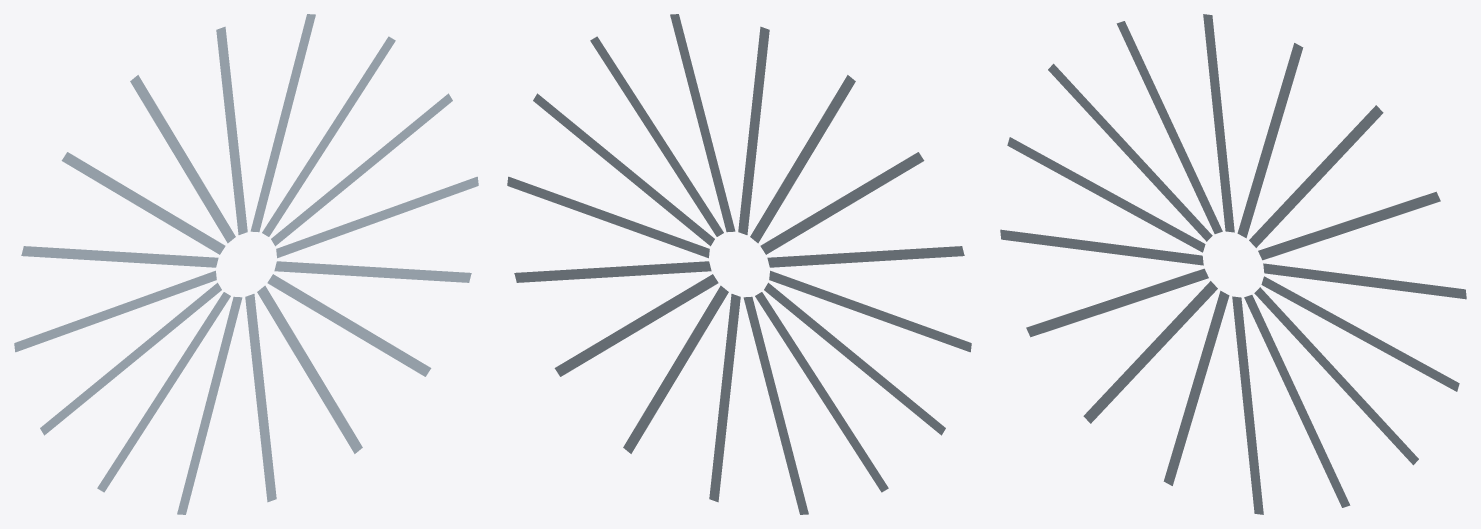
File: Eula_LightfallSwordDetonation_PhysicalRadialLight.fbx
The picture shows the model from 3 angles, left to right: view 1: azimuth 30°, elevation 25°; view 2: azimuth 150°, elevation 25°; view 3: azimuth 330°, elevation 25°; orthographic projection.
Visible parts, largest first — view 1: PART_PalePhysicalRadialLight_11, PART_PalePhysicalRadialLight_3, PART_PalePhysicalRadialLight_12, PART_PalePhysicalRadialLight_4, PART_PalePhysicalRadialLight_0, PART_PalePhysicalRadialLight_8, PART_PalePhysicalRadialLight_15, PART_PalePhysicalRadialLight_7, PART_PalePhysicalRadialLight_10, PART_PalePhysicalRadialLight_2, PART_PalePhysicalRadialLight_1, PART_PalePhysicalRadialLight_9 (+4 smaller); view 2: PART_PalePhysicalRadialLight_11, PART_PalePhysicalRadialLight_3, PART_PalePhysicalRadialLight_12, PART_PalePhysicalRadialLight_4, PART_PalePhysicalRadialLight_0, PART_PalePhysicalRadialLight_8, PART_PalePhysicalRadialLight_15, PART_PalePhysicalRadialLight_7, PART_PalePhysicalRadialLight_10, PART_PalePhysicalRadialLight_2, PART_PalePhysicalRadialLight_1, PART_PalePhysicalRadialLight_9 (+4 smaller); view 3: PART_PalePhysicalRadialLight_12, PART_PalePhysicalRadialLight_4, PART_PalePhysicalRadialLight_0, PART_PalePhysicalRadialLight_8, PART_PalePhysicalRadialLight_13, PART_PalePhysicalRadialLight_5, PART_PalePhysicalRadialLight_15, PART_PalePhysicalRadialLight_7, PART_PalePhysicalRadialLight_11, PART_PalePhysicalRadialLight_3, PART_PalePhysicalRadialLight_1, PART_PalePhysicalRadialLight_9 (+4 smaller).
Part boxes in pixels (x1,y1,x2,y2): PART_PalePhysicalRadialLight_11: [177, 296, 242, 514]; PART_PalePhysicalRadialLight_3: [250, 14, 315, 232]; PART_PalePhysicalRadialLight_12: [245, 294, 276, 502]; PART_PalePhysicalRadialLight_4: [216, 26, 247, 234]; PART_PalePhysicalRadialLight_0: [276, 176, 478, 258]; PART_PalePhysicalRadialLight_8: [14, 270, 216, 352]; PART_PalePhysicalRadialLight_15: [274, 261, 471, 282]; PART_PalePhysicalRadialLight_7: [21, 246, 218, 267]; PART_PalePhysicalRadialLight_10: [97, 292, 230, 492]; PART_PalePhysicalRadialLight_2: [262, 36, 395, 236]; PART_PalePhysicalRadialLight_1: [271, 93, 452, 246]; PART_PalePhysicalRadialLight_9: [40, 282, 221, 435]; PART_PalePhysicalRadialLight_11: [743, 296, 808, 514]; PART_PalePhysicalRadialLight_3: [670, 14, 735, 232]; PART_PalePhysicalRadialLight_12: [709, 294, 740, 502]; PART_PalePhysicalRadialLight_4: [738, 26, 769, 234]; PART_PalePhysicalRadialLight_0: [507, 176, 709, 258]; PART_PalePhysicalRadialLight_8: [769, 270, 971, 352]; PART_PalePhysicalRadialLight_15: [514, 261, 711, 282]; PART_PalePhysicalRadialLight_7: [767, 246, 964, 267]; PART_PalePhysicalRadialLight_10: [755, 292, 888, 492]; PART_PalePhysicalRadialLight_2: [590, 36, 723, 236]; PART_PalePhysicalRadialLight_1: [533, 93, 714, 246]; PART_PalePhysicalRadialLight_9: [764, 282, 945, 435]; PART_PalePhysicalRadialLight_12: [1232, 296, 1263, 514]; PART_PalePhysicalRadialLight_4: [1203, 14, 1234, 232]; PART_PalePhysicalRadialLight_0: [1263, 263, 1466, 299]; PART_PalePhysicalRadialLight_8: [1000, 229, 1203, 265]; PART_PalePhysicalRadialLight_13: [1244, 295, 1350, 507]; PART_PalePhysicalRadialLight_5: [1116, 21, 1222, 233]; PART_PalePhysicalRadialLight_15: [1261, 276, 1459, 391]; PART_PalePhysicalRadialLight_7: [1007, 137, 1205, 252]; PART_PalePhysicalRadialLight_11: [1163, 290, 1229, 485]; PART_PalePhysicalRadialLight_3: [1237, 43, 1303, 238]; PART_PalePhysicalRadialLight_1: [1258, 191, 1440, 260]; PART_PalePhysicalRadialLight_9: [1026, 268, 1208, 337].
Size of the model in its own units: 199 by 199 by 3.25e-05.
